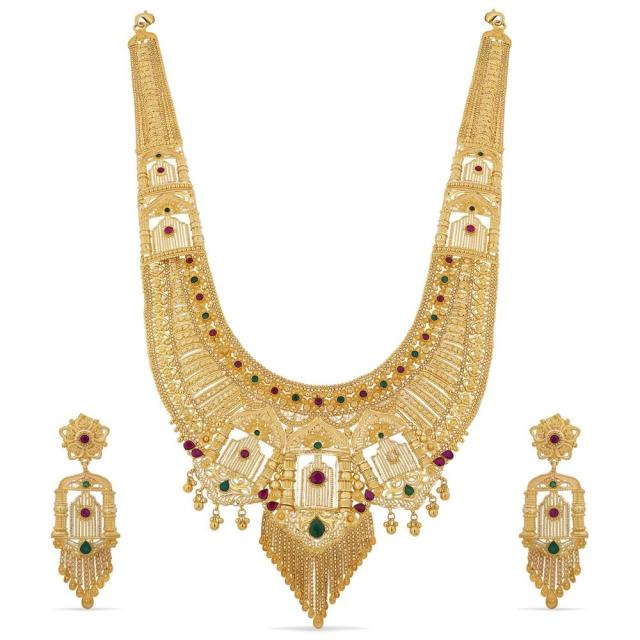missing gem: (220, 345, 228, 353), (388, 453, 397, 460)
